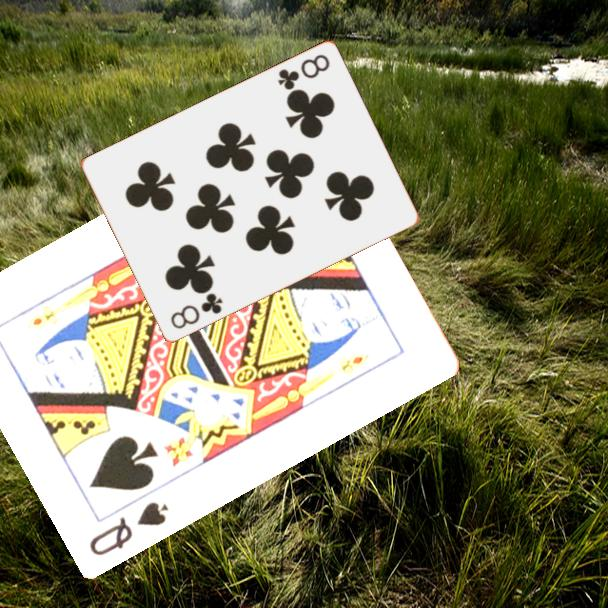c08: (167, 290, 226, 332), (274, 51, 333, 93)
s12: (86, 497, 172, 558)
